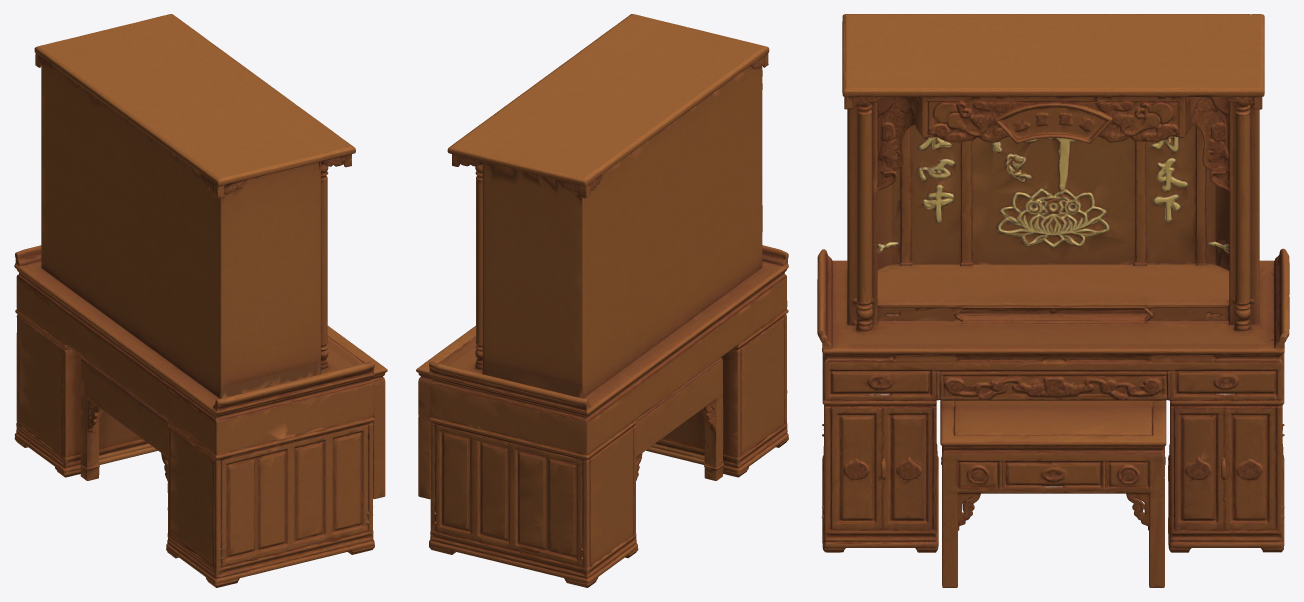
Rendered from ornate wooden altar 3d model.glb.
3 views of the same model, side by side, from view 1: azimuth 30°, elevation 25°; view 2: azimuth 150°, elevation 25°; view 3: azimuth 270°, elevation 25° (orthographic). The views are drawn at different scales.
Visible parts, largest first — view 1: tripo_node_404454a6-7d78-4160-9aaf-b2d35cd62865; view 2: tripo_node_404454a6-7d78-4160-9aaf-b2d35cd62865; view 3: tripo_node_404454a6-7d78-4160-9aaf-b2d35cd62865.
Part boxes in pixels (x1,y1,x2,y2): tripo_node_404454a6-7d78-4160-9aaf-b2d35cd62865: (14, 14, 387, 587); tripo_node_404454a6-7d78-4160-9aaf-b2d35cd62865: (416, 14, 788, 587); tripo_node_404454a6-7d78-4160-9aaf-b2d35cd62865: (817, 14, 1289, 587).
Bounding box in the file's own units: 0.5894 × 1 × 0.9341.
1 material, 1 textured.
